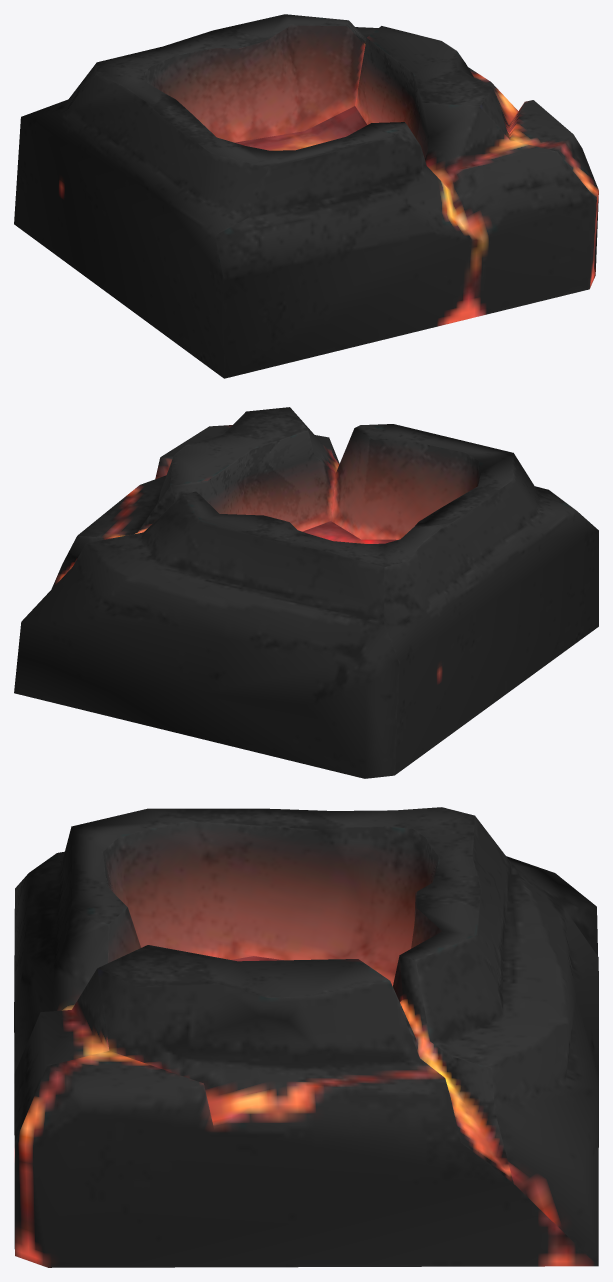
Rendered from volcano.glb.
3 views of the same model, one above another, from view 1: azimuth 30°, elevation 25°; view 2: azimuth 150°, elevation 25°; view 3: azimuth 270°, elevation 25° (orthographic). The views are drawn at different scales.
Visible parts, largest first — view 1: OBJ; view 2: OBJ; view 3: OBJ.
Boxes of the visible parts, x1,y1,x2,y2 form: OBJ: [14, 14, 598, 378]; OBJ: [14, 407, 598, 778]; OBJ: [14, 807, 598, 1267].
Bounding box in the file's own units: 100 × 44.96 × 99.98.
Materials: 1 (1 with a texture image).
